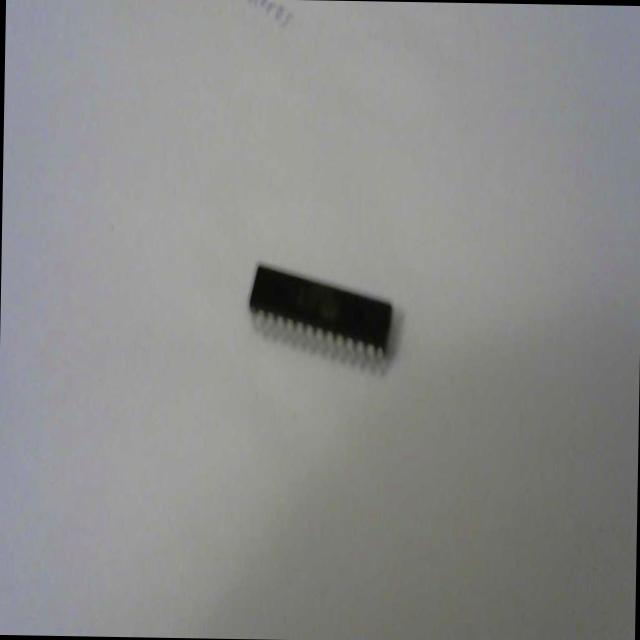atmega: (244, 256, 396, 374)
